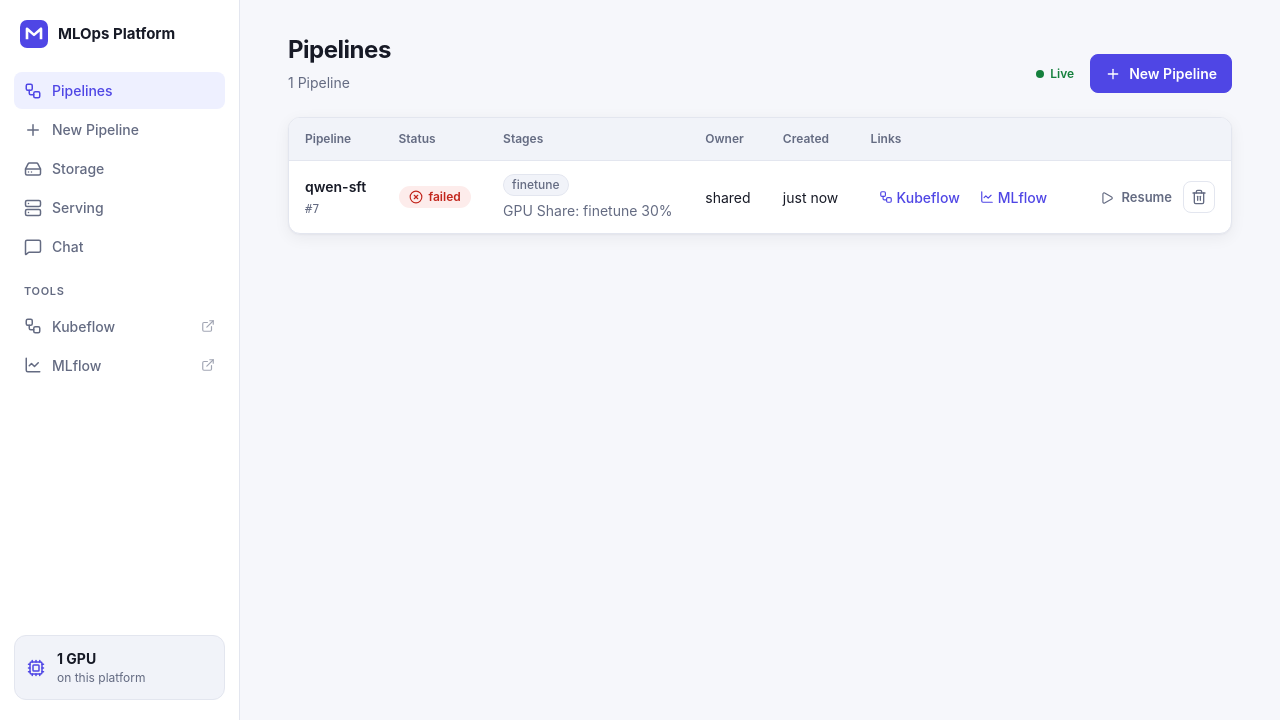
Test: a Resume left empty keeps the stored shares
Click the button "Resume" at (1136, 198), box x1=1088 y1=183 x2=1183 y2=213
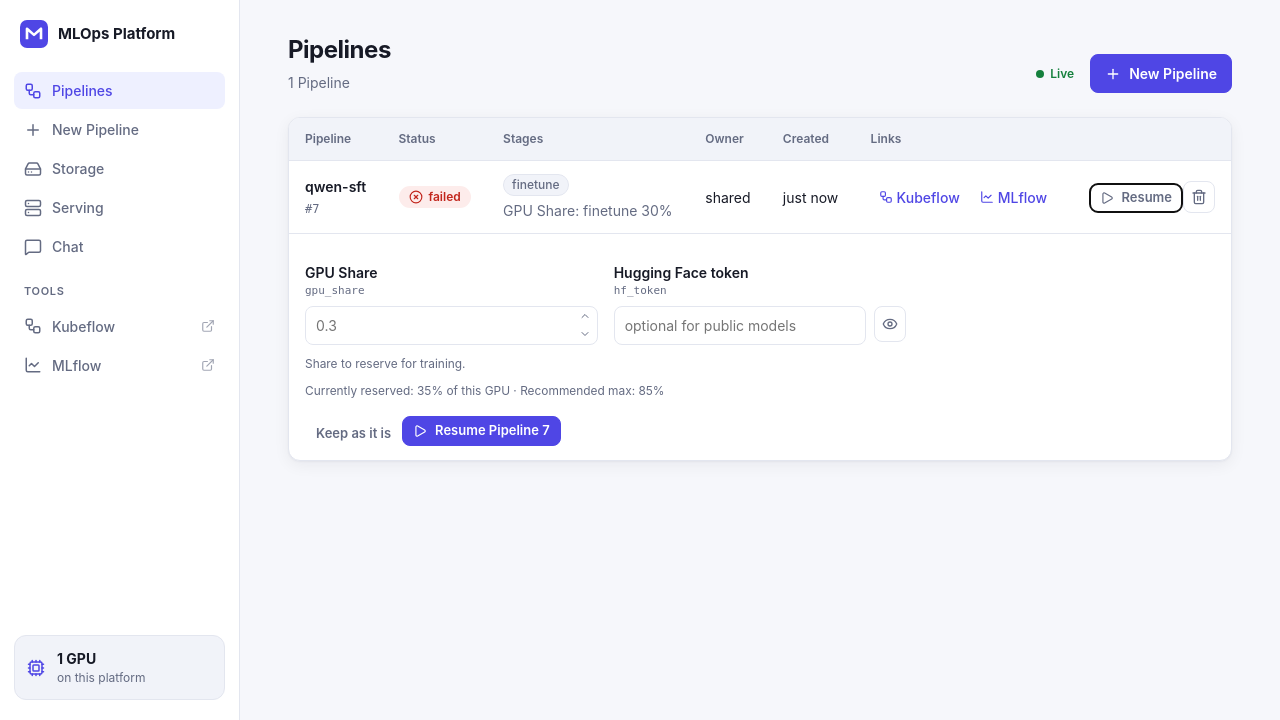
Click the button "Resume Pipeline 7" at (481, 431), box x1=402 y1=416 x2=561 y2=446
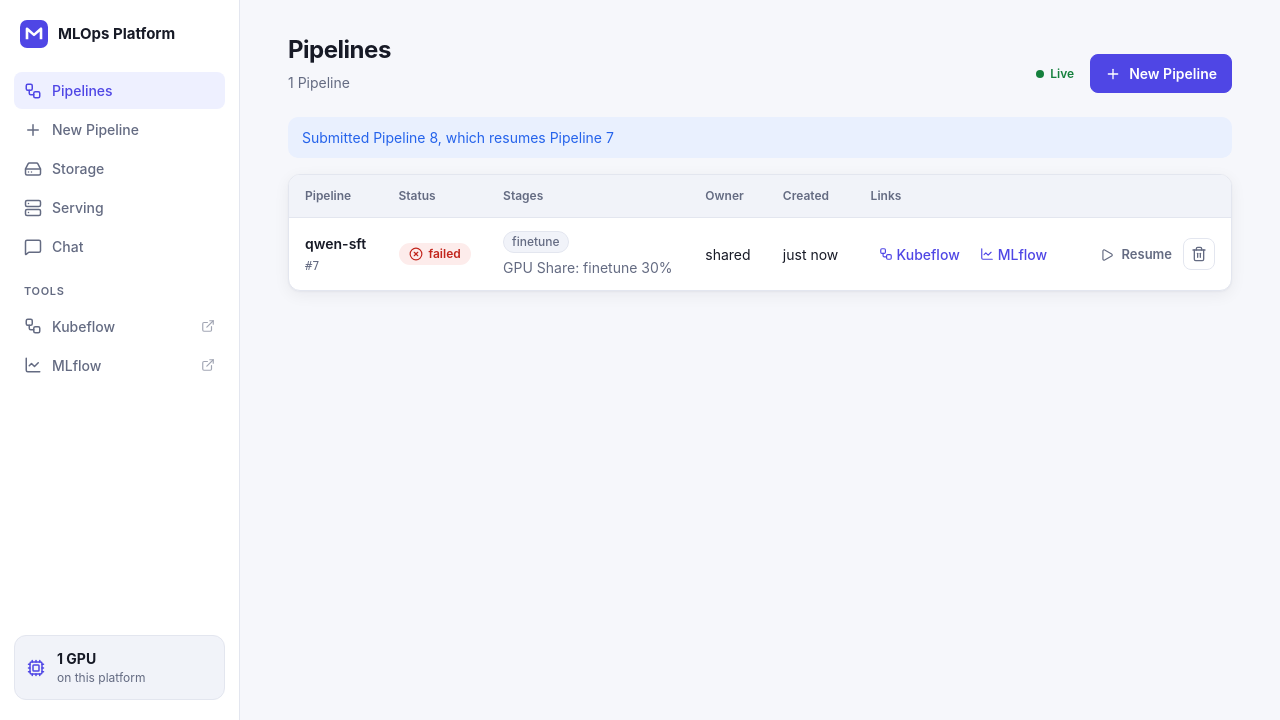
Now the text "Submitted Pipeline 8, which resumes Pipeline 7" is shown, box x1=288 y1=117 x2=1232 y2=158
